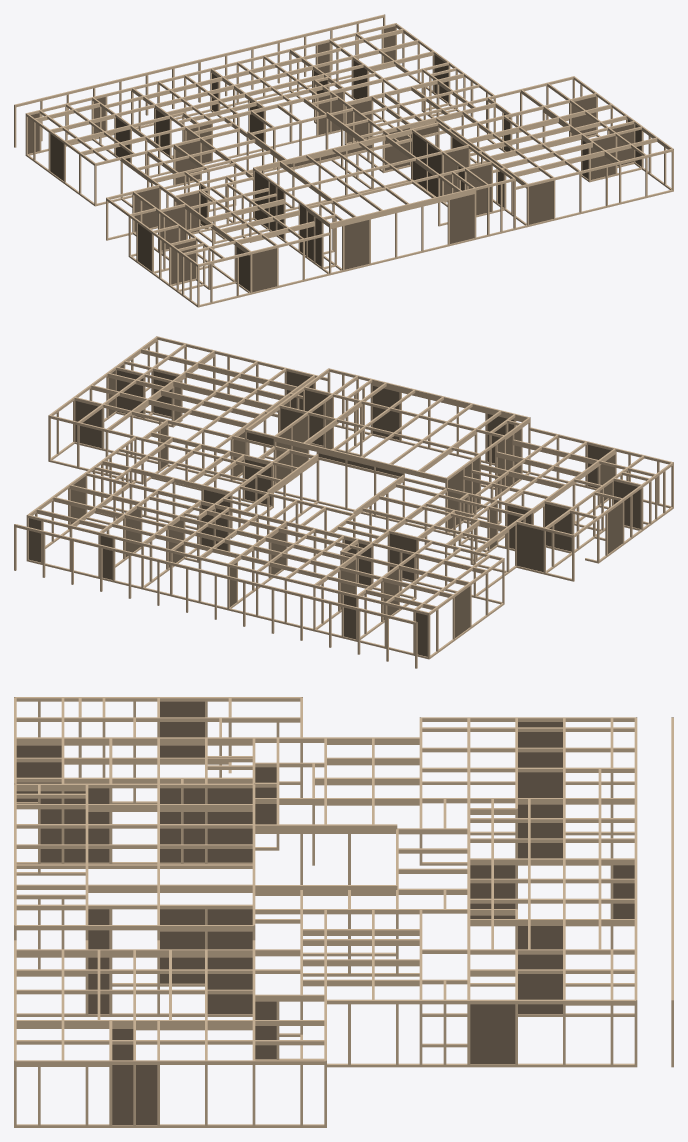
3 renders of one model, top to bottom at view 1: azimuth 30°, elevation 25°; view 2: azimuth 150°, elevation 25°; view 3: azimuth 270°, elevation 25°, orthographic. The views are drawn at different scales.
Parts seen in each view (by area): view 1: Layers; view 2: Layers; view 3: Layers.
Boxes of the visible parts, x1,y1,x2,y2 form: Layers: (14, 14, 673, 307); Layers: (14, 336, 673, 668); Layers: (14, 697, 673, 1127).
Bounding box in the file's own units: 1 × 0.1035 × 0.7657.
